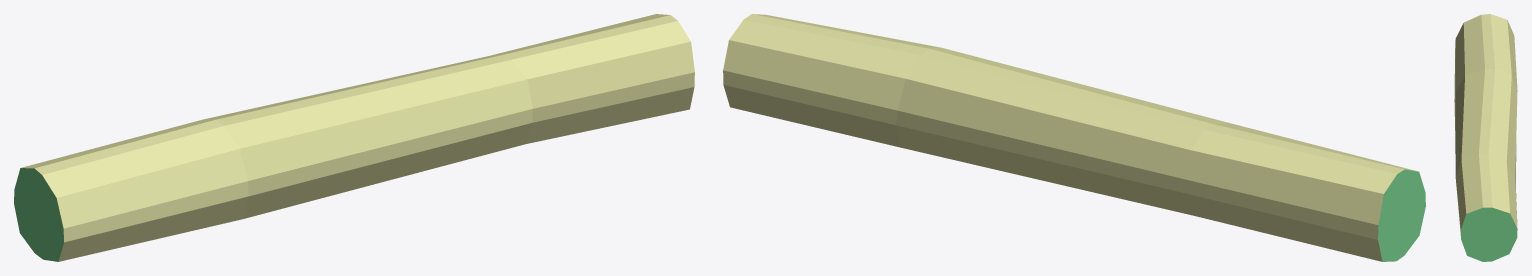
File: log.gltf
The picture shows the model from 3 angles, left to right: view 1: azimuth 30°, elevation 25°; view 2: azimuth 150°, elevation 25°; view 3: azimuth 270°, elevation 25°; orthographic projection. The views are drawn at different scales.
Parts seen in each view (by area): view 1: Log; view 2: Log; view 3: Log.
Boxes of the visible parts, box(x1,y1,x2,y2) form: Log: box(14, 14, 694, 261); Log: box(723, 14, 1425, 261); Log: box(1454, 14, 1517, 261).
Bounding box in the file's own units: 7.14 × 1 × 0.9917.
